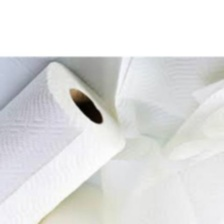tissue: (0, 58, 132, 224), (93, 57, 224, 224)
